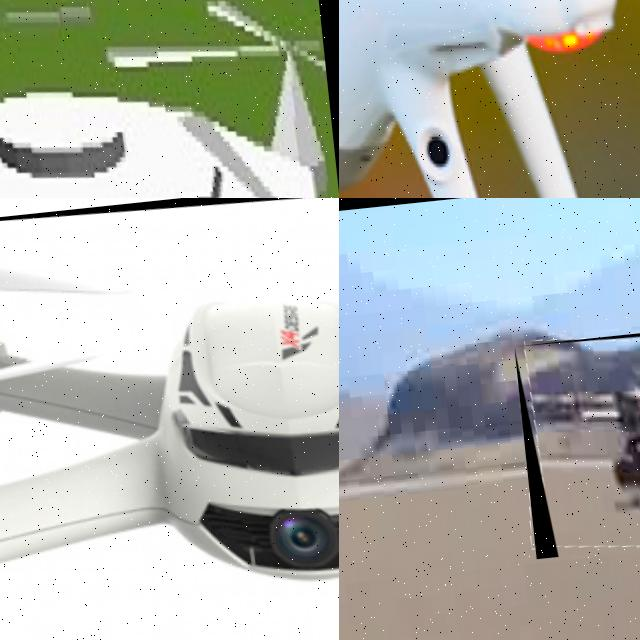drone: (0, 198, 339, 640), (0, 0, 339, 198), (339, 0, 640, 198), (514, 322, 640, 559)
